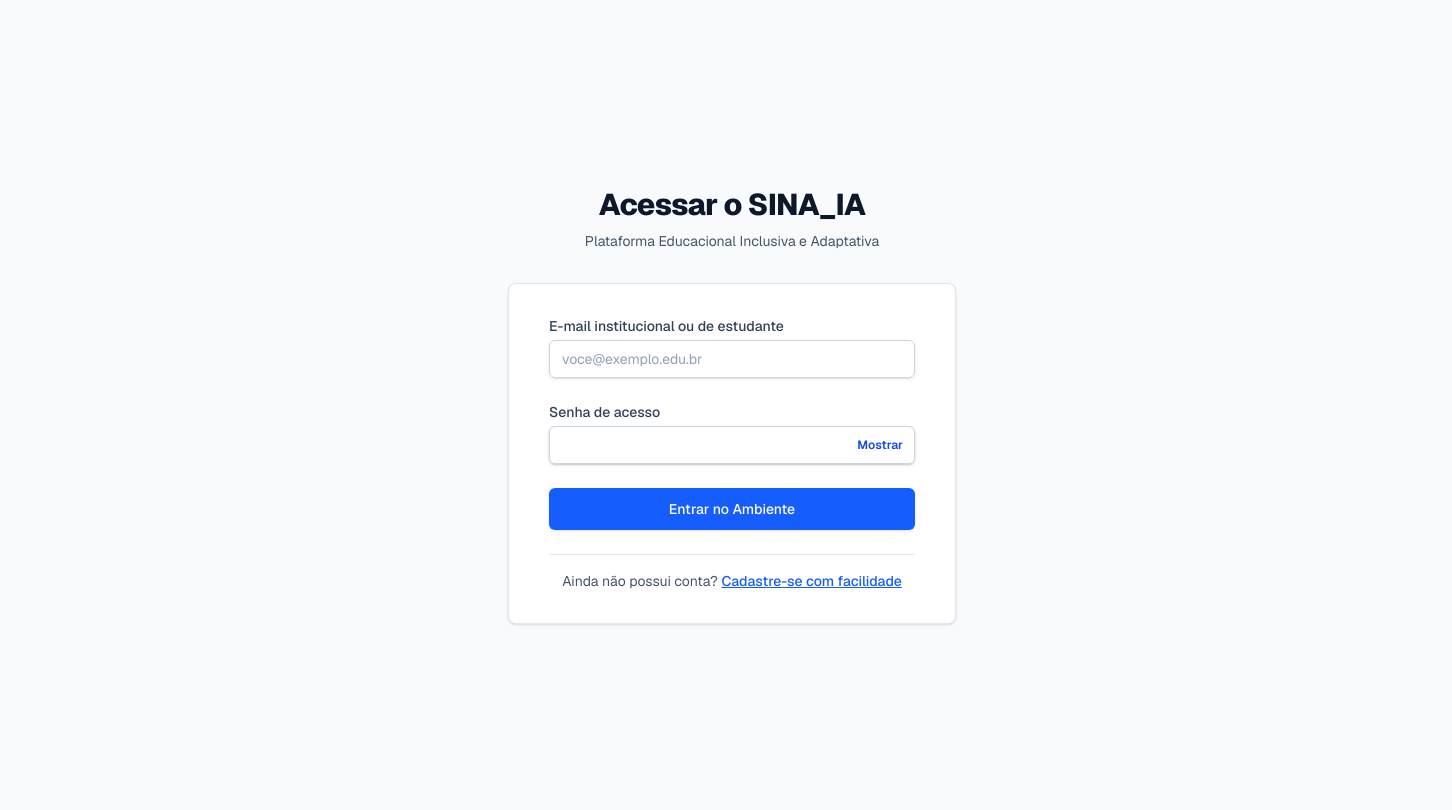
Test: session right after login or sign up › marks the session as authenticated after login, without reloading the page
In the field labelled "E-mail institucional ou de estudante": [732, 358] box top-left (549, 340), bottom-right (915, 378), type "aluna@sina.dev"
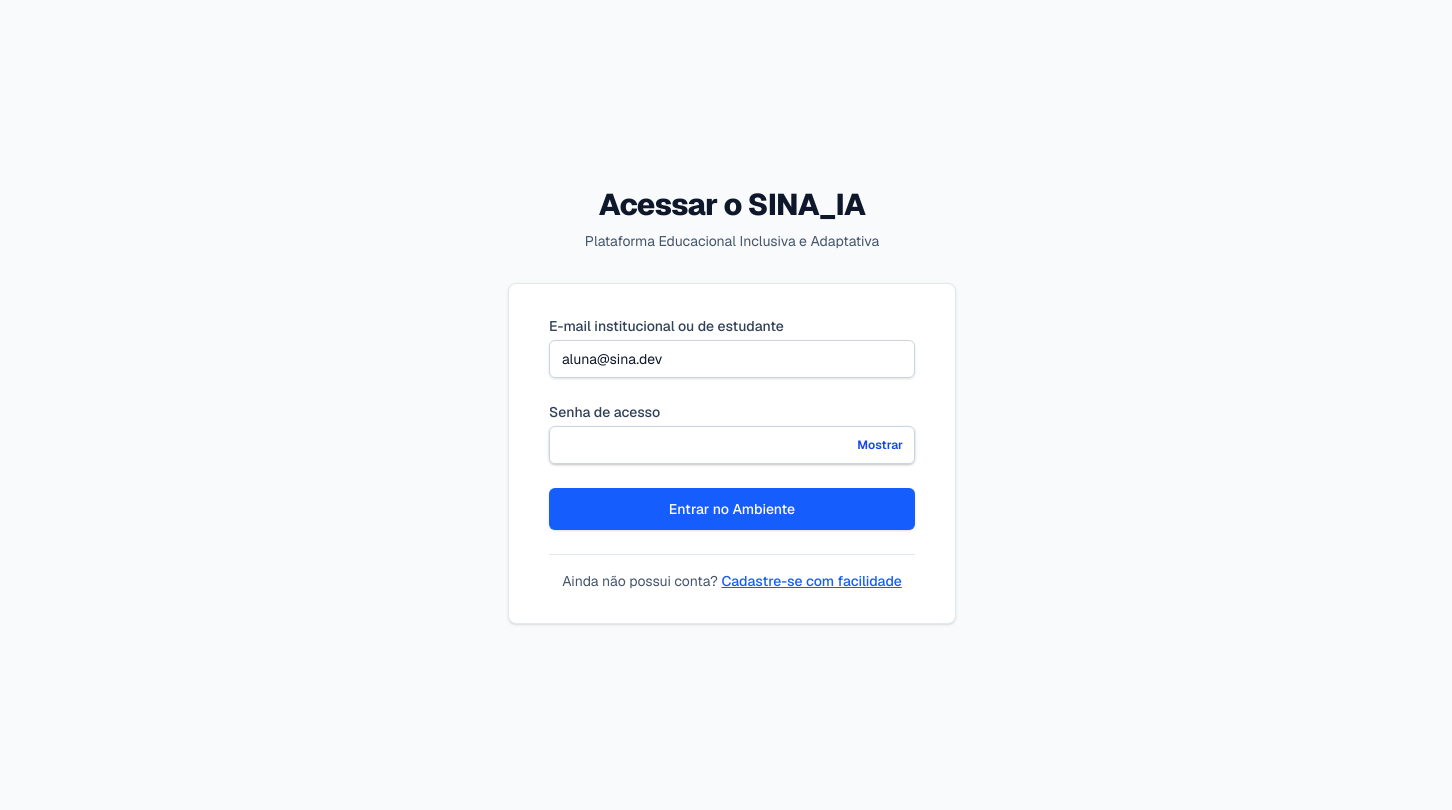
In the password field labelled "Senha de acesso": [732, 444] box top-left (549, 426), bottom-right (915, 464), type "senhaForte123"
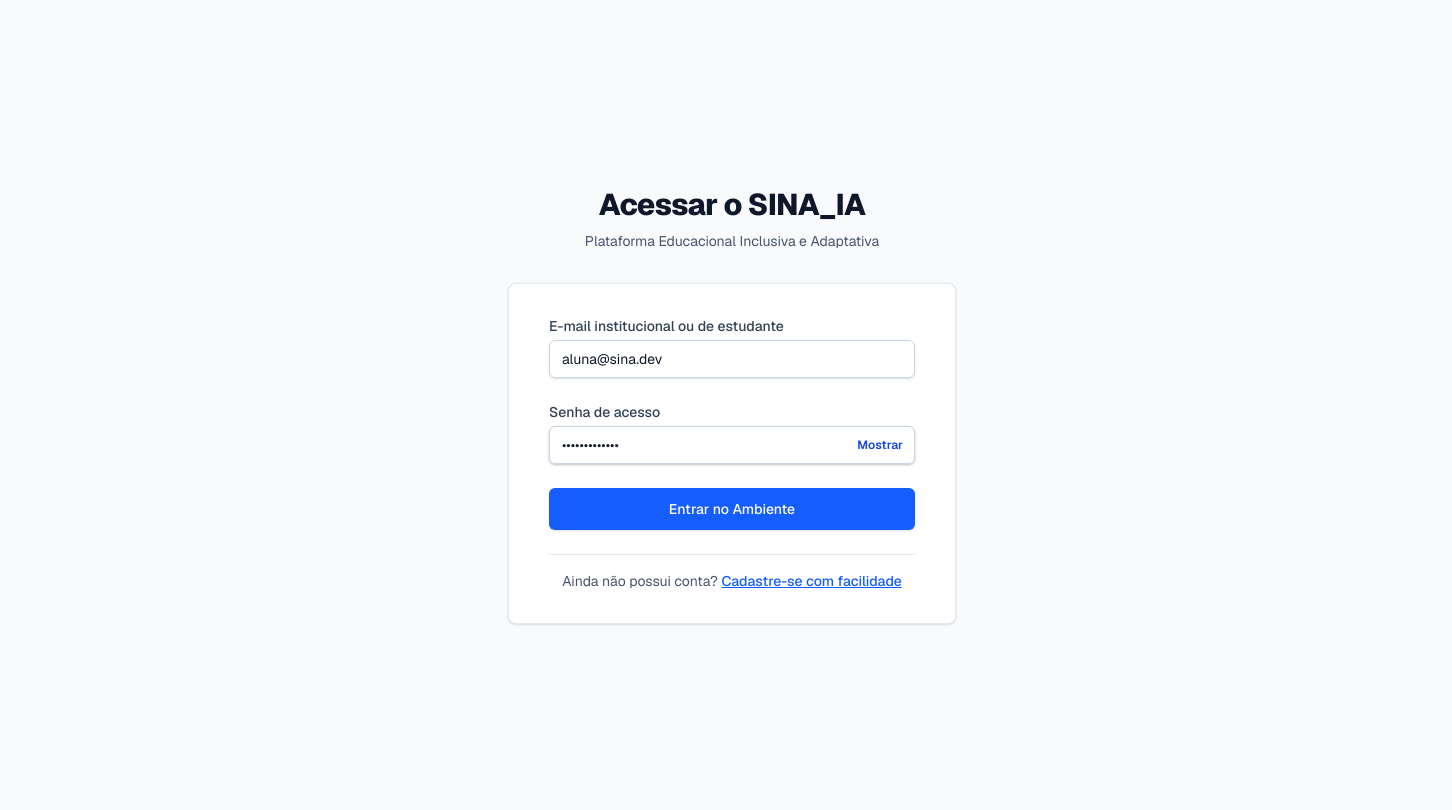
Click the button "Entrar no Ambiente": [732, 508] box top-left (549, 488), bottom-right (915, 530)
(page scrolled)
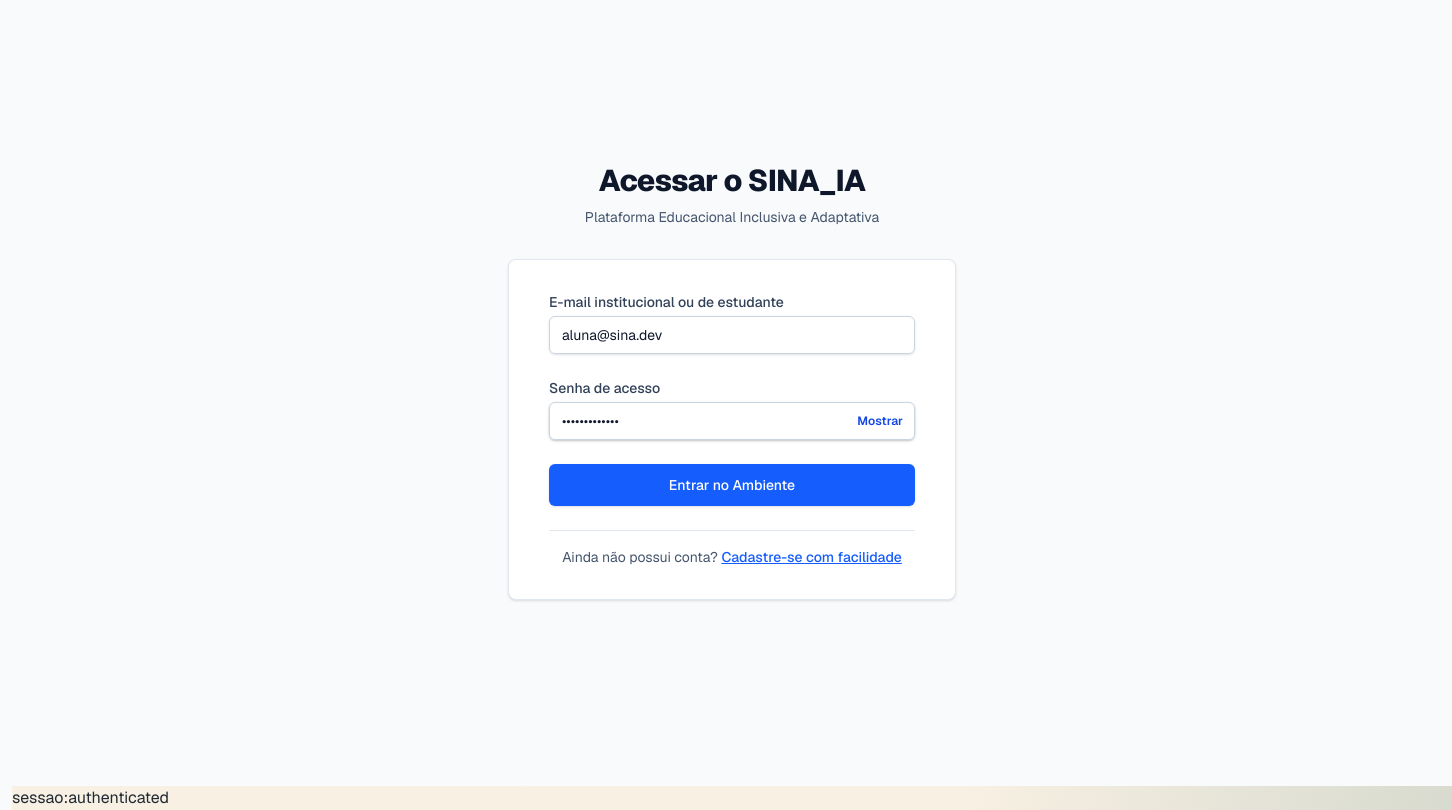
Check: the text "sessao:authenticated" is shown, box top-left (12, 787), bottom-right (169, 808)
